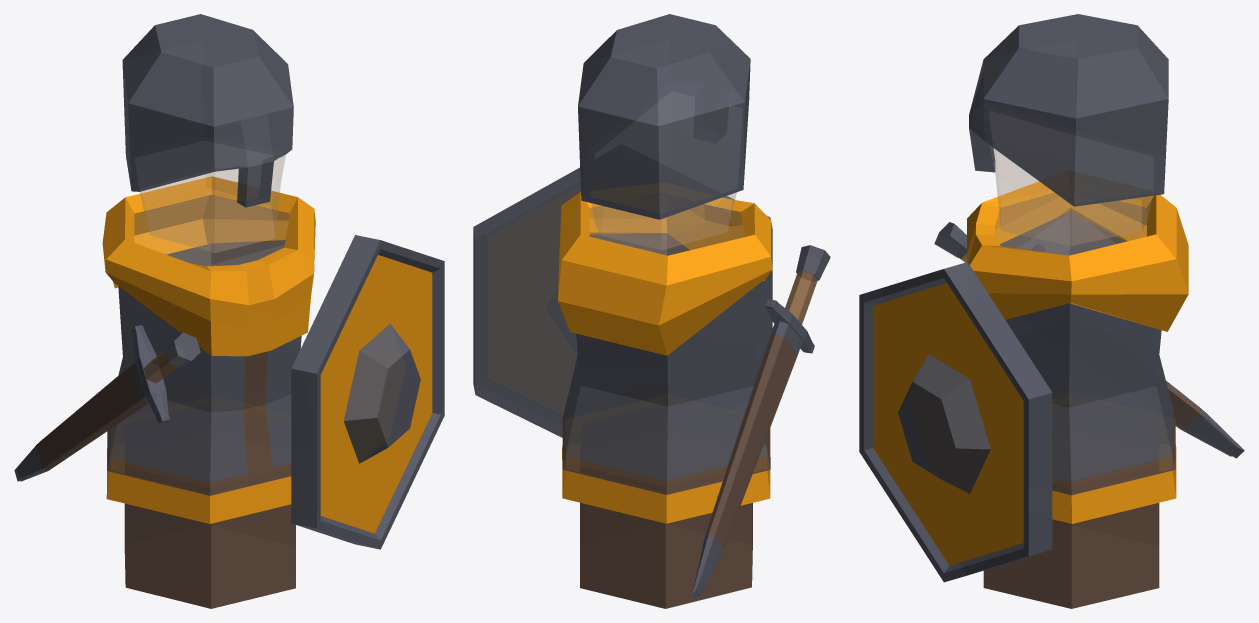
Rendered from MDL_Knight.fbx.
The picture shows the model from 3 angles, left to right: view 1: azimuth 30°, elevation 25°; view 2: azimuth 150°, elevation 25°; view 3: azimuth 270°, elevation 25°; orthographic projection.
Parts seen in each view (by area): view 1: MeshKnight; view 2: MeshKnight; view 3: MeshKnight.
Part boxes in pixels (box(x1,y1,x2,y2)): MeshKnight: box(14, 14, 444, 608); MeshKnight: box(473, 14, 830, 608); MeshKnight: box(859, 14, 1244, 608).
Bounding box in the file's own units: 69.37 × 70.22 × 107.
